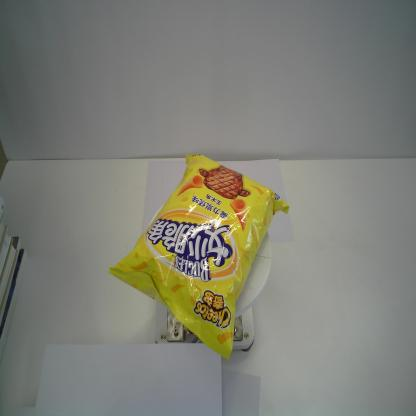Puffed Food: (108, 152, 290, 361)
